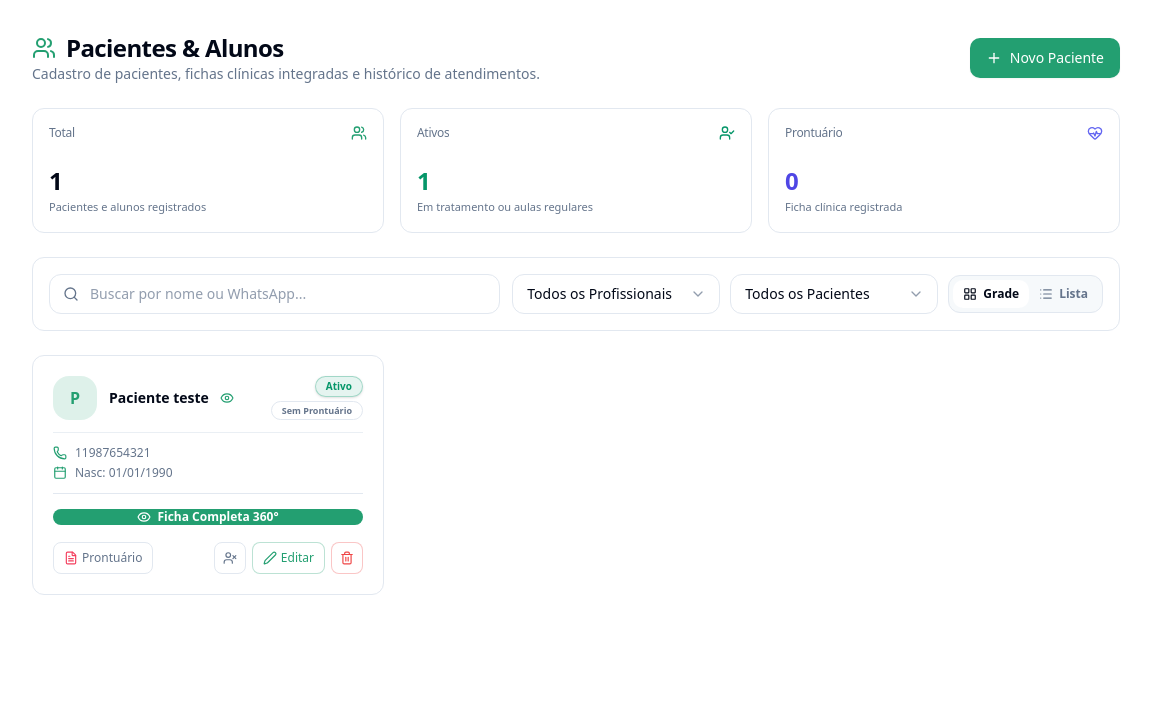
Scenario: patient form removes CEP, address, emergency contact and emergency phone
The image size is (1152, 720).
Click the button "Novo Paciente" at (1045, 58), box [970,38,1120,78]
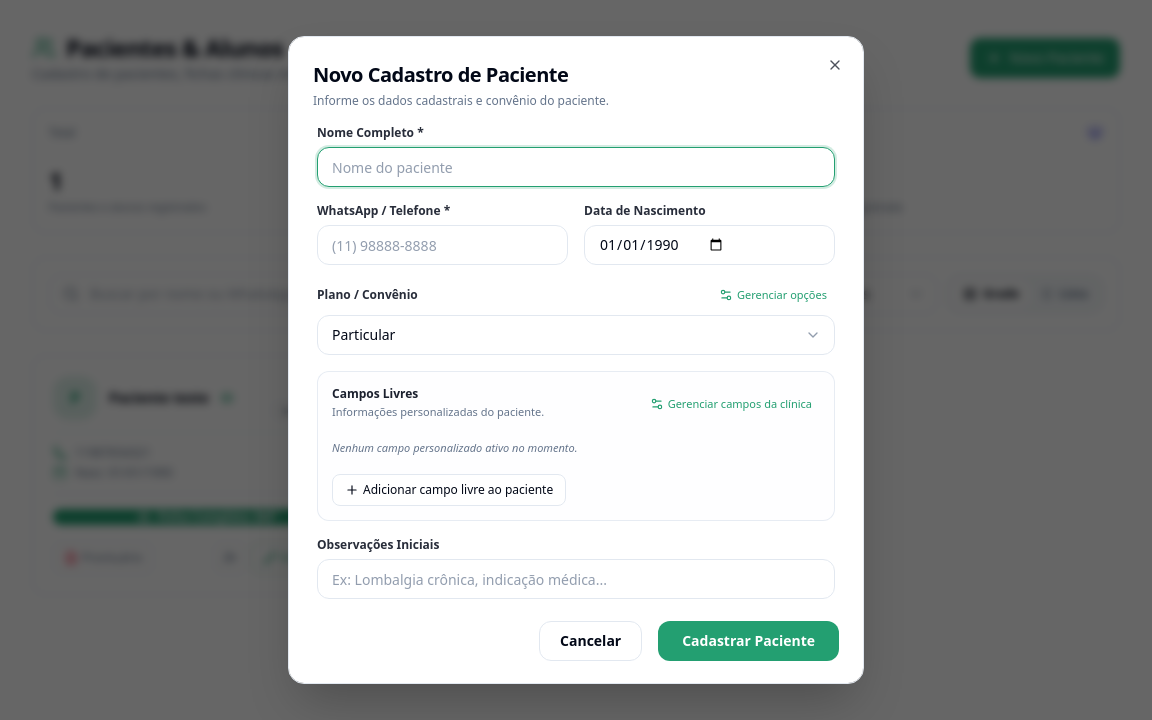
Check: the field with placeholder "Nome do paciente" is shown, box [317,147,835,187]
Check: the field with placeholder "(11) 98888-8888" is shown, box [317,225,568,265]
Check: the text "Informe os dados cadastrais e convênio do paciente." is shown, box [313,92,609,109]
